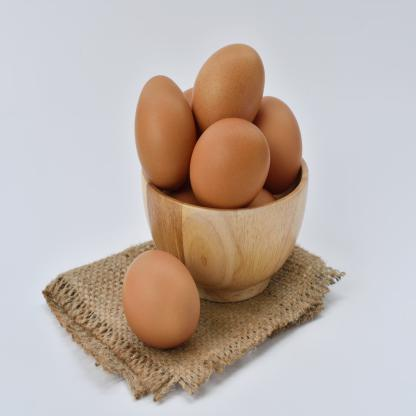egg: (102, 226, 209, 352), (176, 23, 273, 136), (127, 62, 204, 191), (186, 110, 274, 216), (239, 86, 308, 184)
